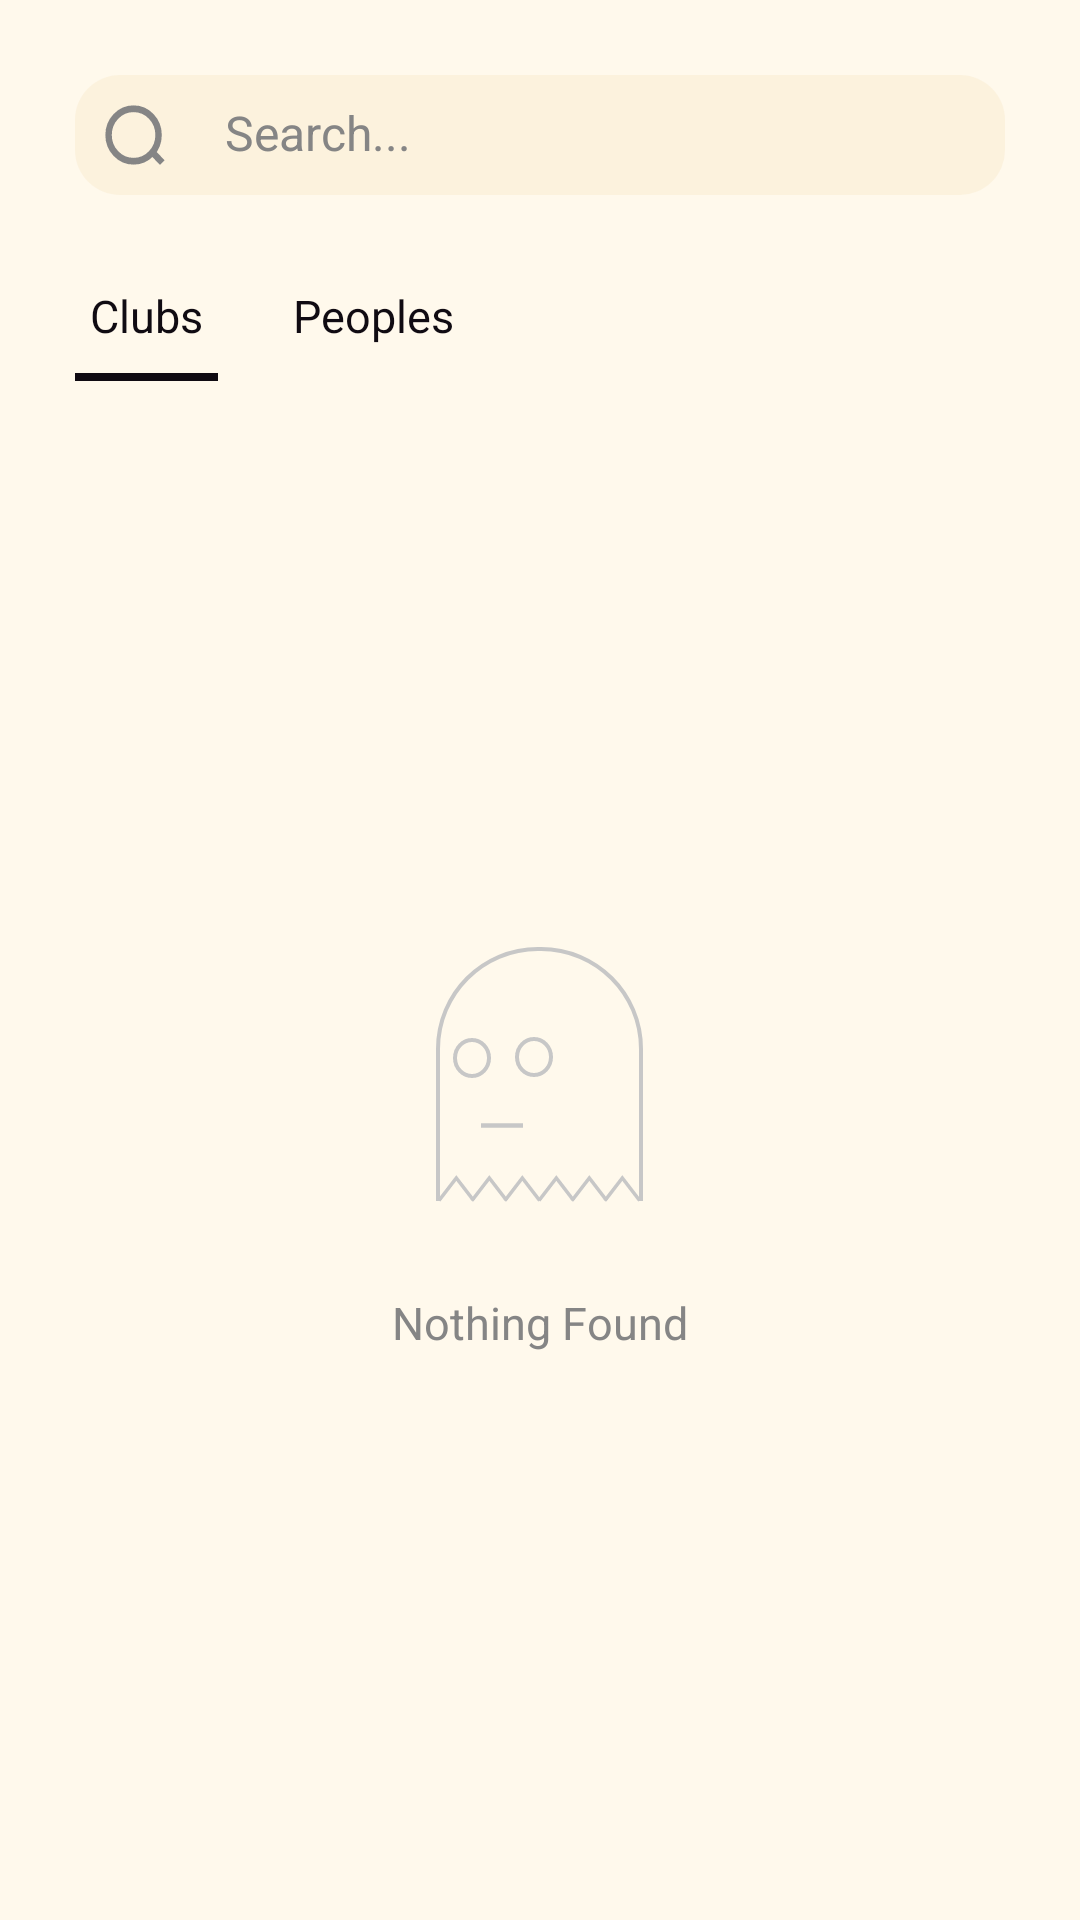

Named icons in this screenshot (1080*1920) and their bounding boxes, (x1, y1, x2, y2):
noresult: (436, 947, 643, 1201)
